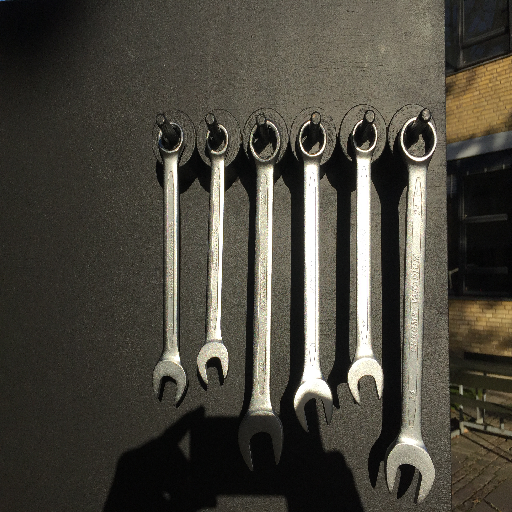bottom: (384, 434, 437, 506), (237, 409, 286, 473), (291, 374, 335, 433), (346, 354, 385, 408), (151, 355, 189, 407), (194, 338, 231, 387)
top: (396, 115, 440, 170), (247, 119, 283, 166), (295, 118, 328, 162), (349, 116, 381, 158), (156, 121, 186, 161), (204, 123, 231, 159)
